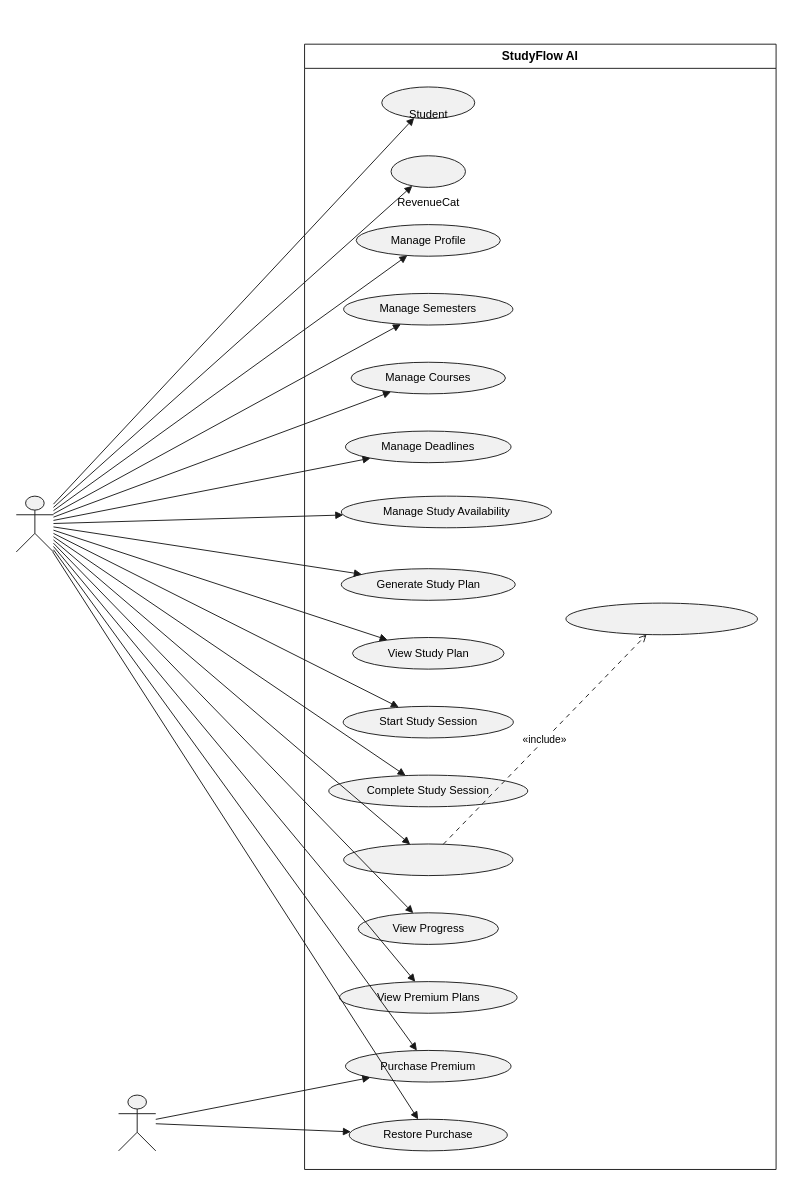
Image size: 792x1186. Some labels were removed from this diagram. Here are the shapes that lost their labels. From the top down, the box of each, then its label:
(381, 86, 475, 119): Register
(390, 155, 465, 187): Login
(565, 602, 757, 635): Reschedule Study Plan
(343, 843, 513, 876): Skip Study Session
